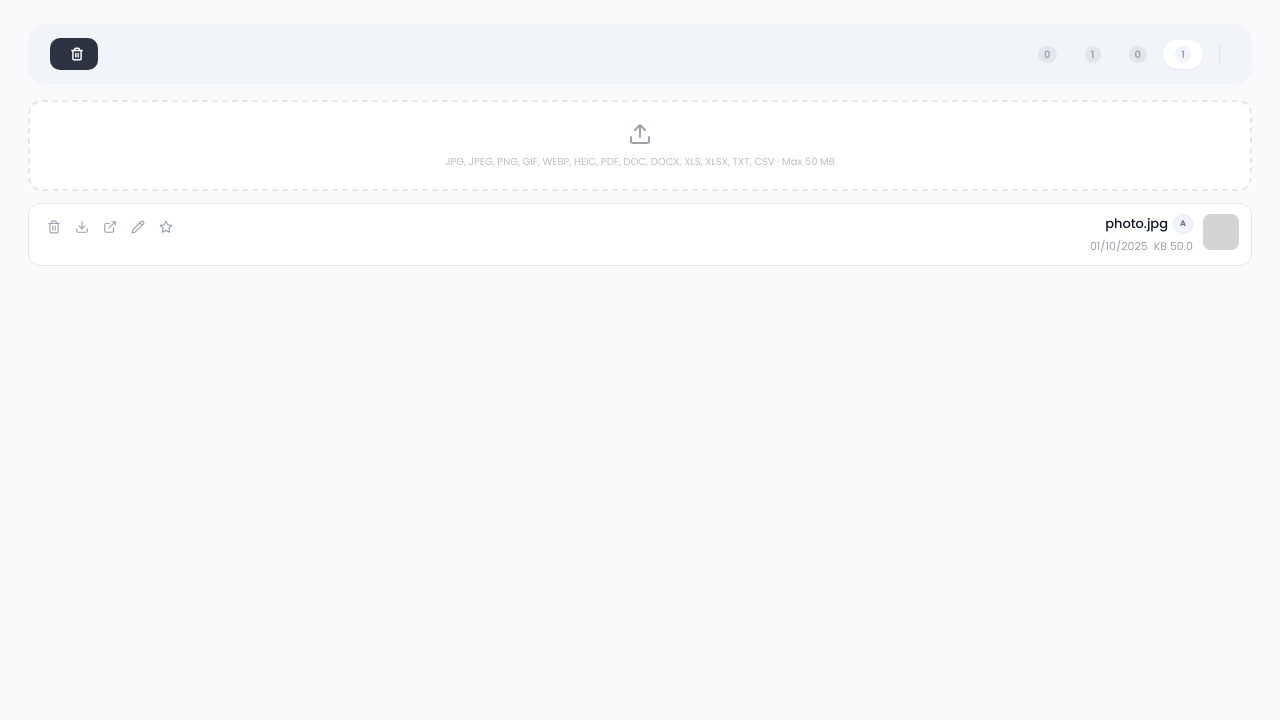
FileManager › FE-COMP-FILEMANAGER-011: escape key closes lightbox
Note: Open lightbox
Click the button "photo.jpg": x=1137, y=224 x1=1105 y1=214 x2=1168 y2=234
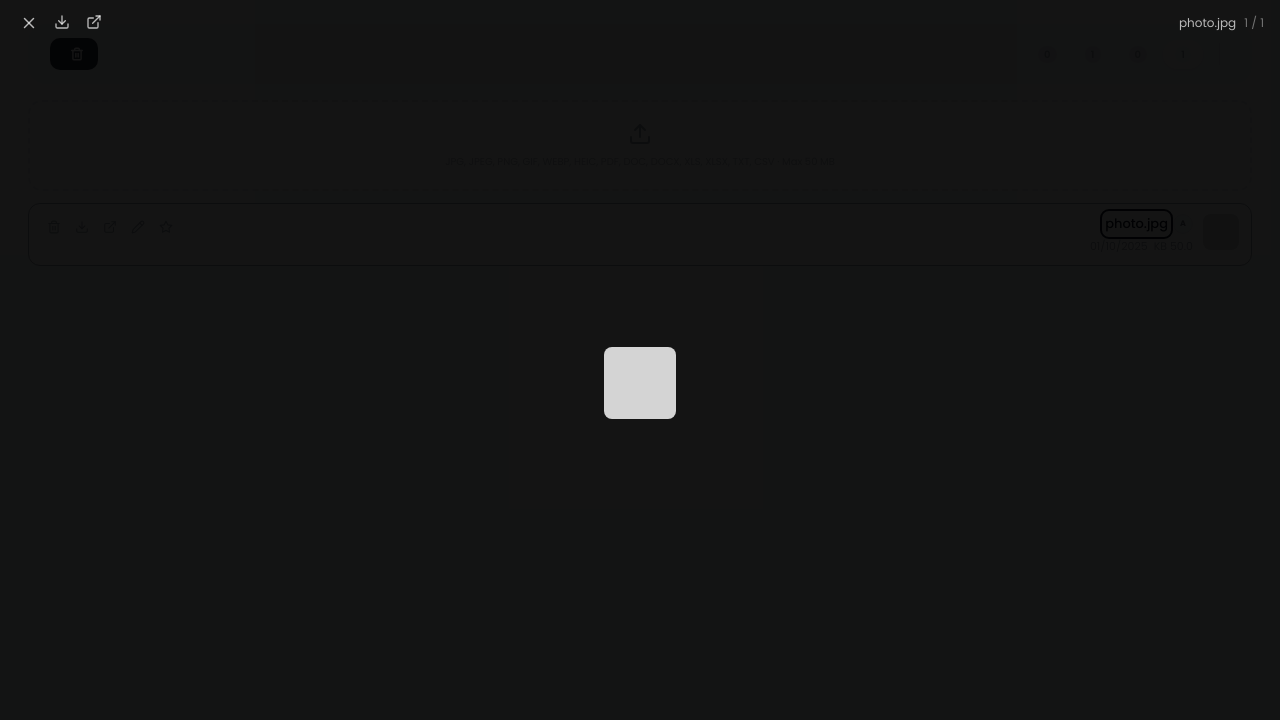
Result: the text "1 / 1" is shown at x1=1244 y1=14 x2=1264 y2=31
Note: Press Escape
Press Escape
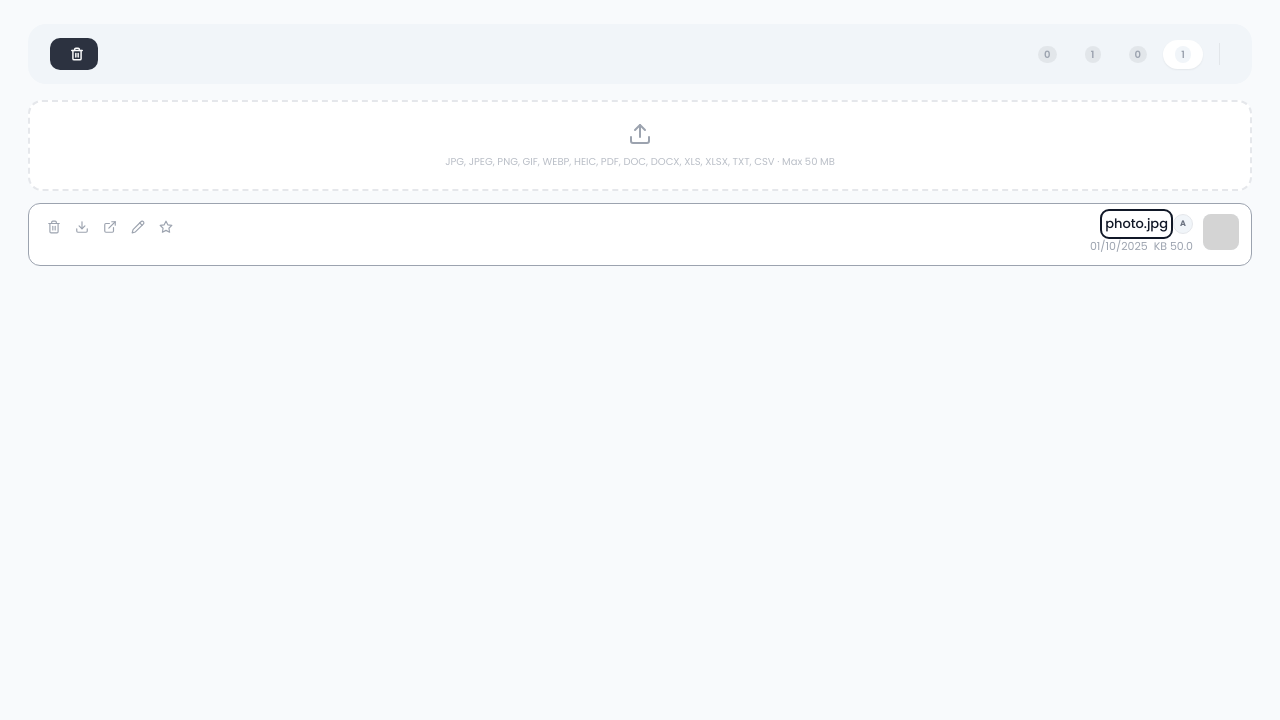
Result: the text "1 / 1" is gone
